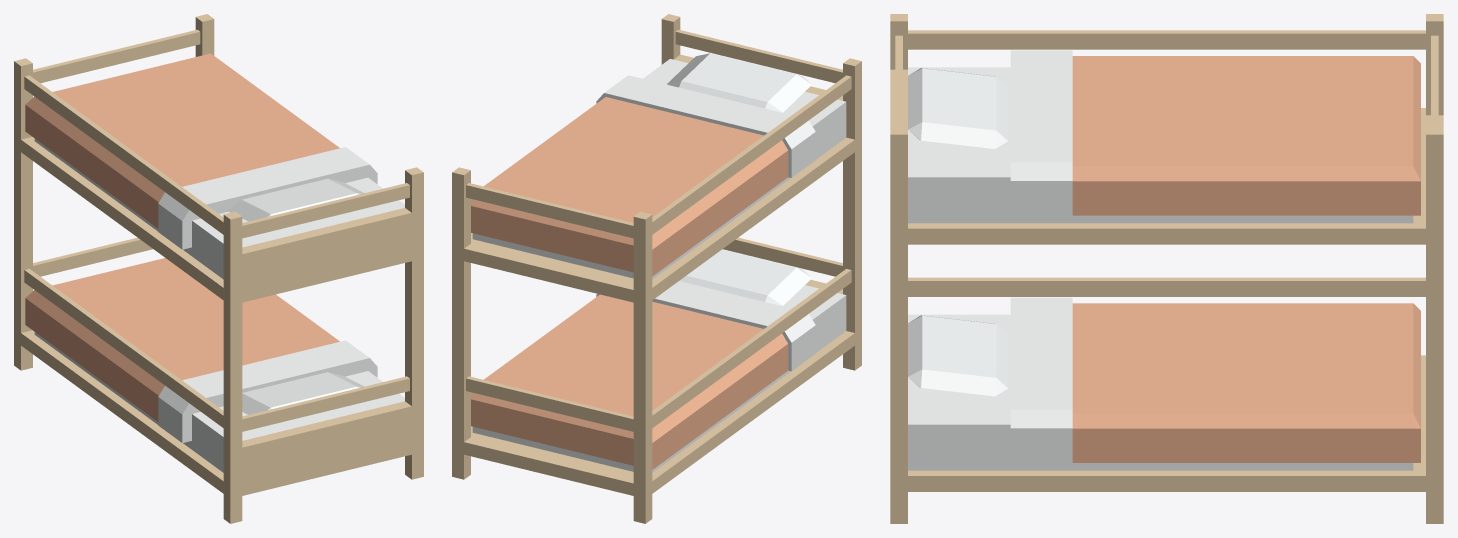
Rendered from bedBunk.glb.
3 renders of one model, left to right at view 1: azimuth 30°, elevation 25°; view 2: azimuth 150°, elevation 25°; view 3: azimuth 270°, elevation 25°, orthographic. The views are drawn at different scales.
Parts seen in each view (by area): view 1: bedBunk; view 2: bedBunk; view 3: bedBunk.
Part boxes in pixels (x1=…): bedBunk: x1=14, y1=14, x2=423, y2=523; bedBunk: x1=452, y1=14, x2=861, y2=523; bedBunk: x1=890, y1=14, x2=1443, y2=523.
Bounding box in the file's own units: 5.71 × 8.5 × 10.95.
